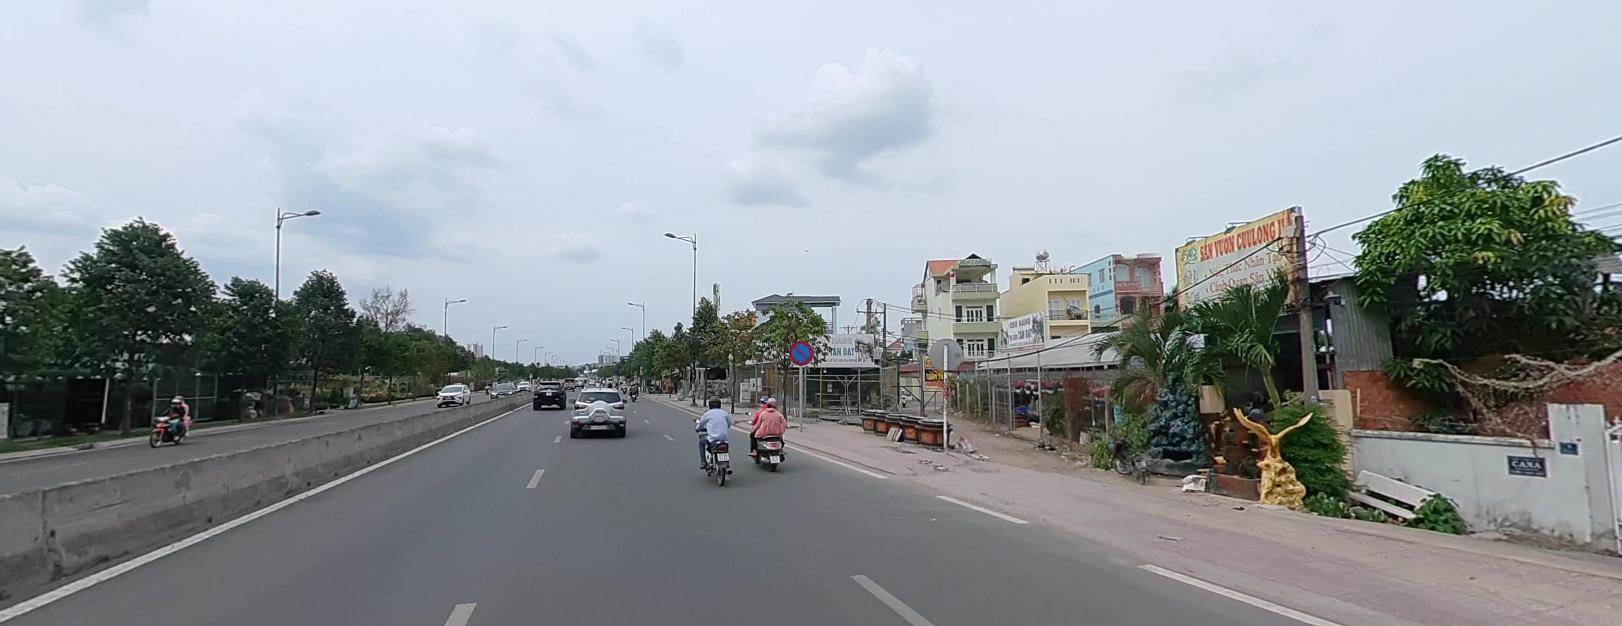Cam dung va do: (788, 340, 812, 363)
